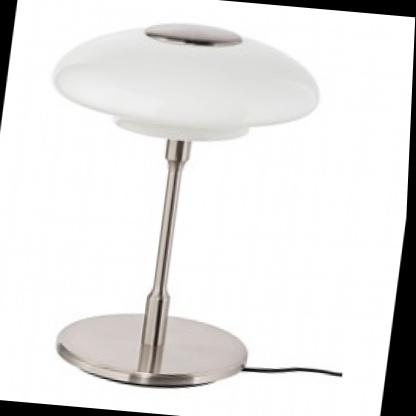Lamp: (5, 0, 338, 410)
